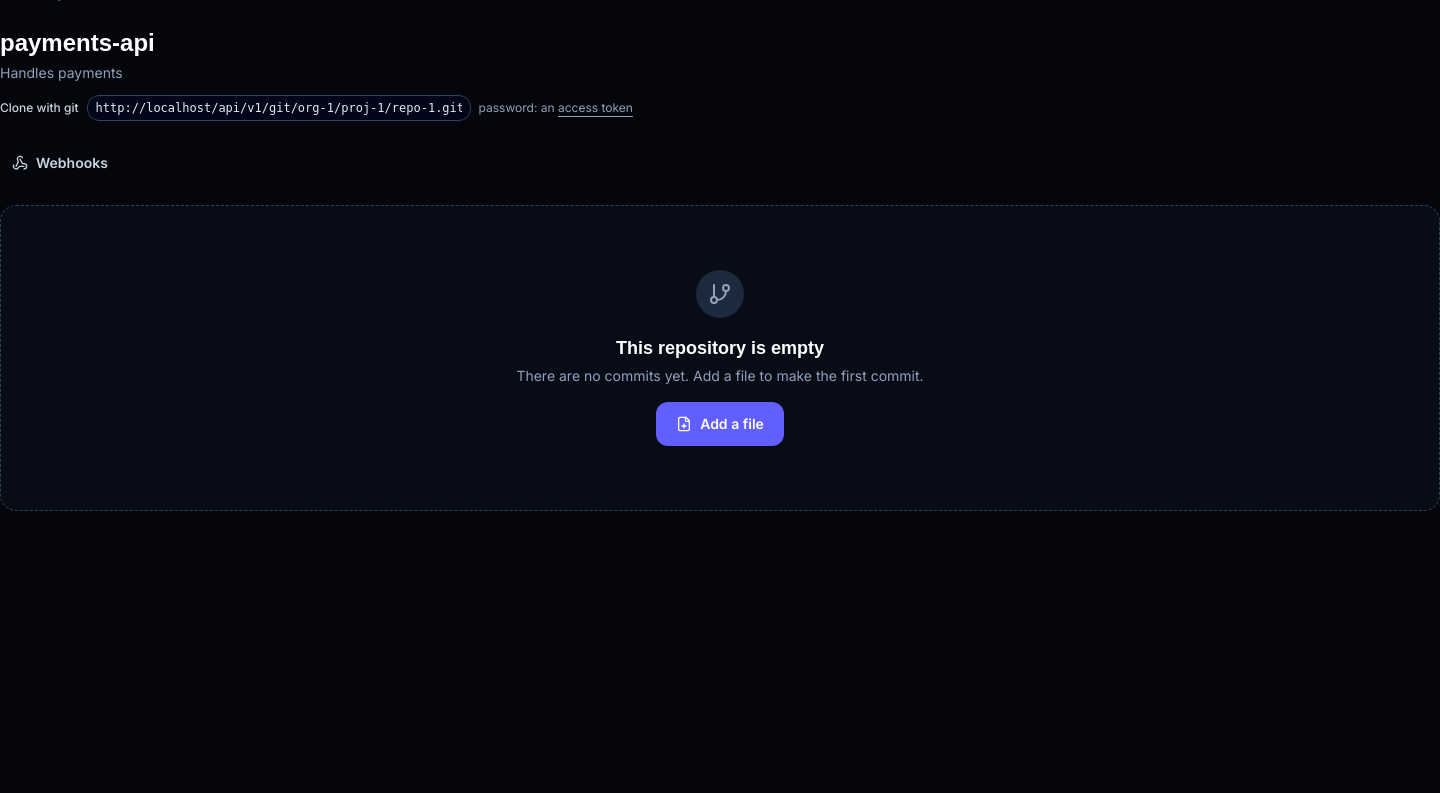
Test: RepositoryBrowserPage › surfaces the server's path rejection on commit
The width and height of the screenshot is (1440, 793).
Click the button "Add a file": [720, 424] box top-left (656, 402), bottom-right (784, 446)
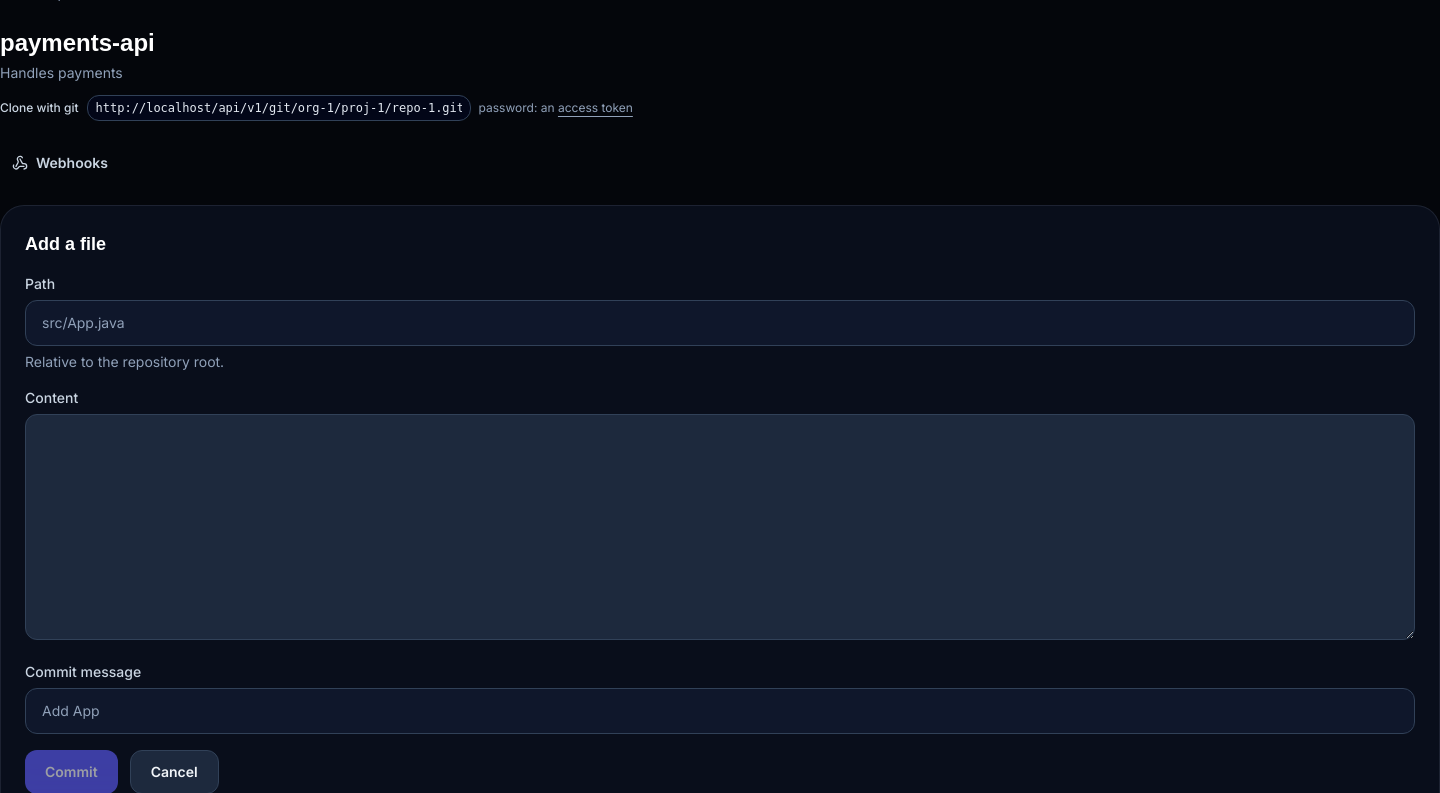
In the field labelled "Path": [720, 323] box top-left (25, 300), bottom-right (1415, 346), type "../escape.txt"
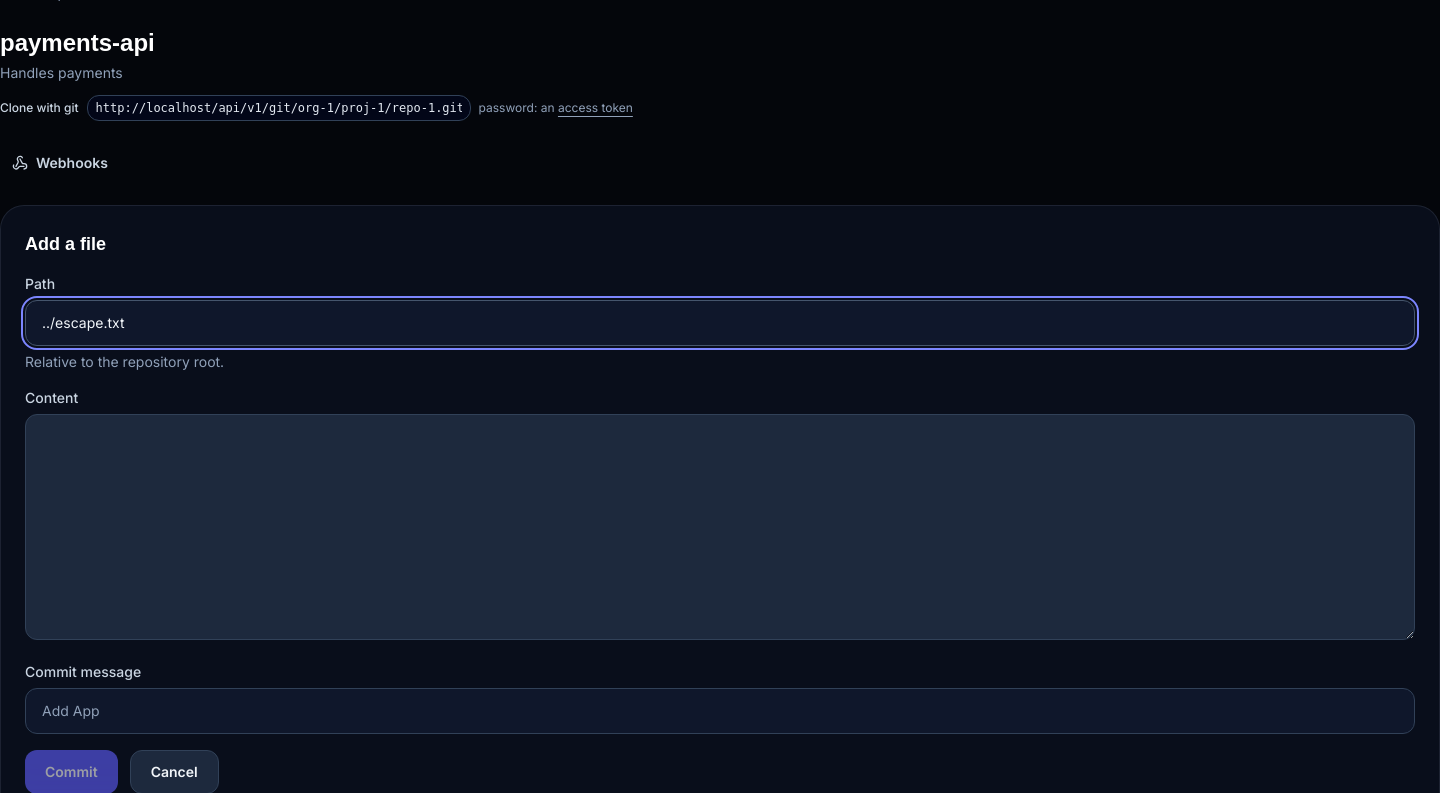
In the field labelled "Commit message": [720, 711] box top-left (25, 688), bottom-right (1415, 734), type "nope"
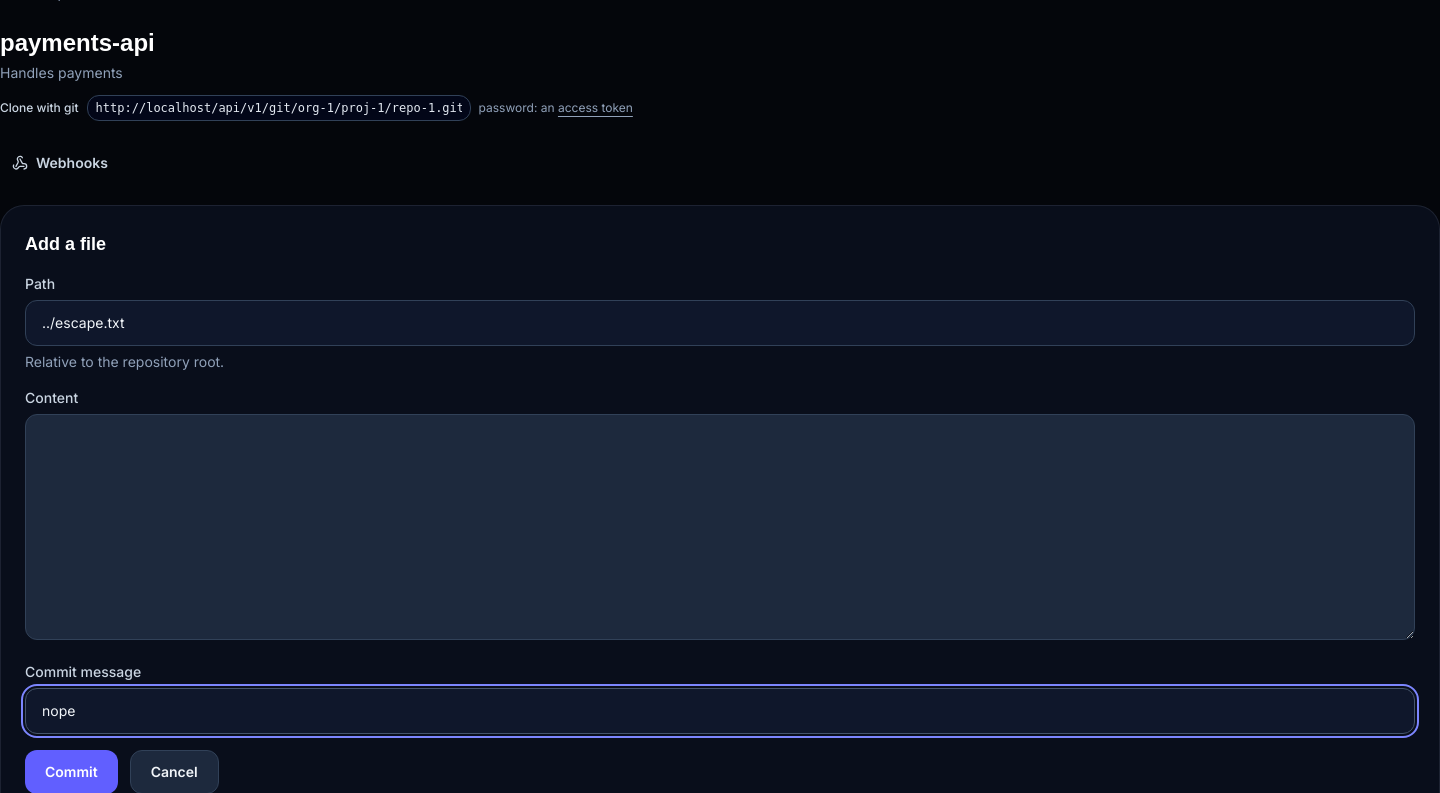
Click the button "Commit": [71, 772] box top-left (25, 750), bottom-right (118, 792)
(page scrolled)
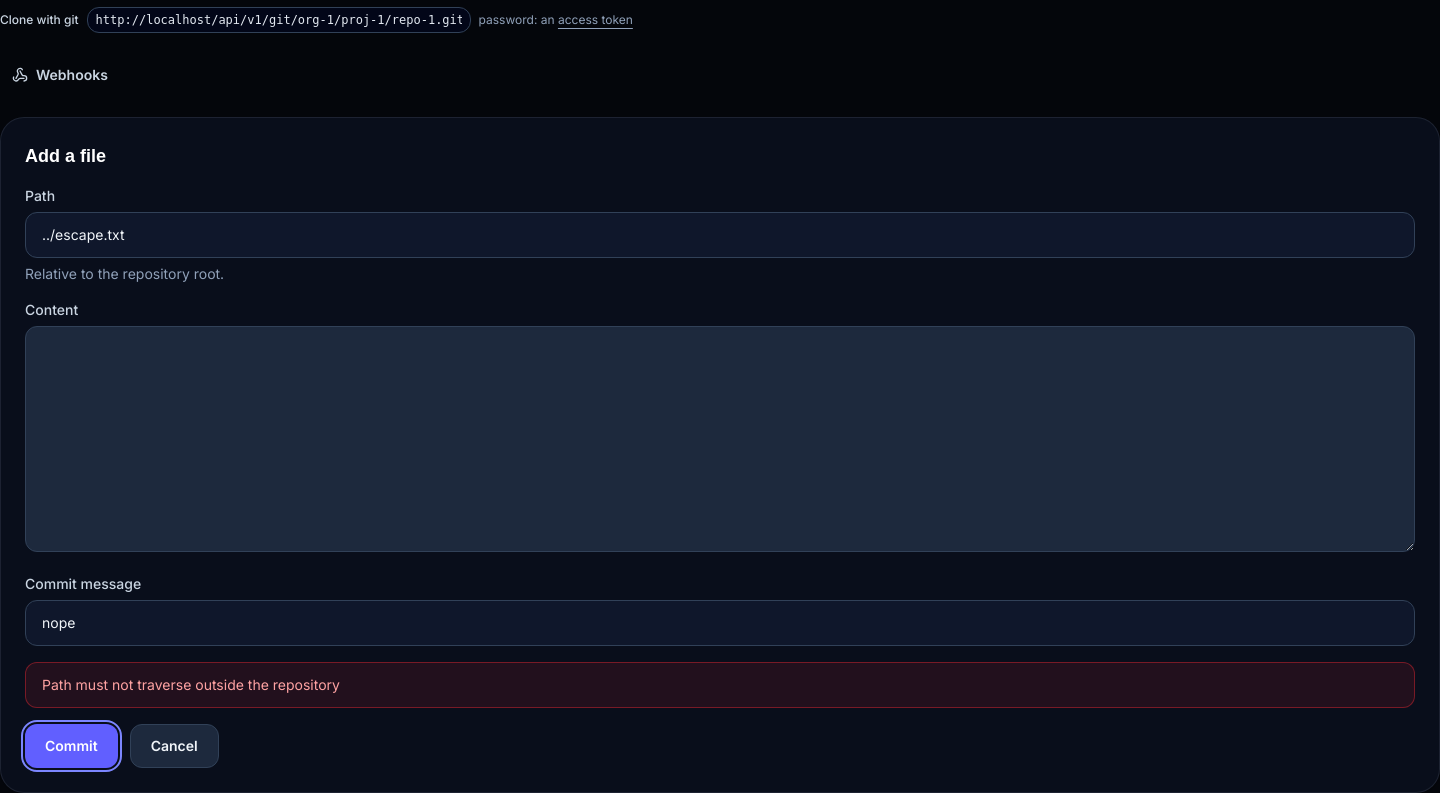
Check: the message shows "must not traverse", box top-left (42, 676), bottom-right (340, 693)
